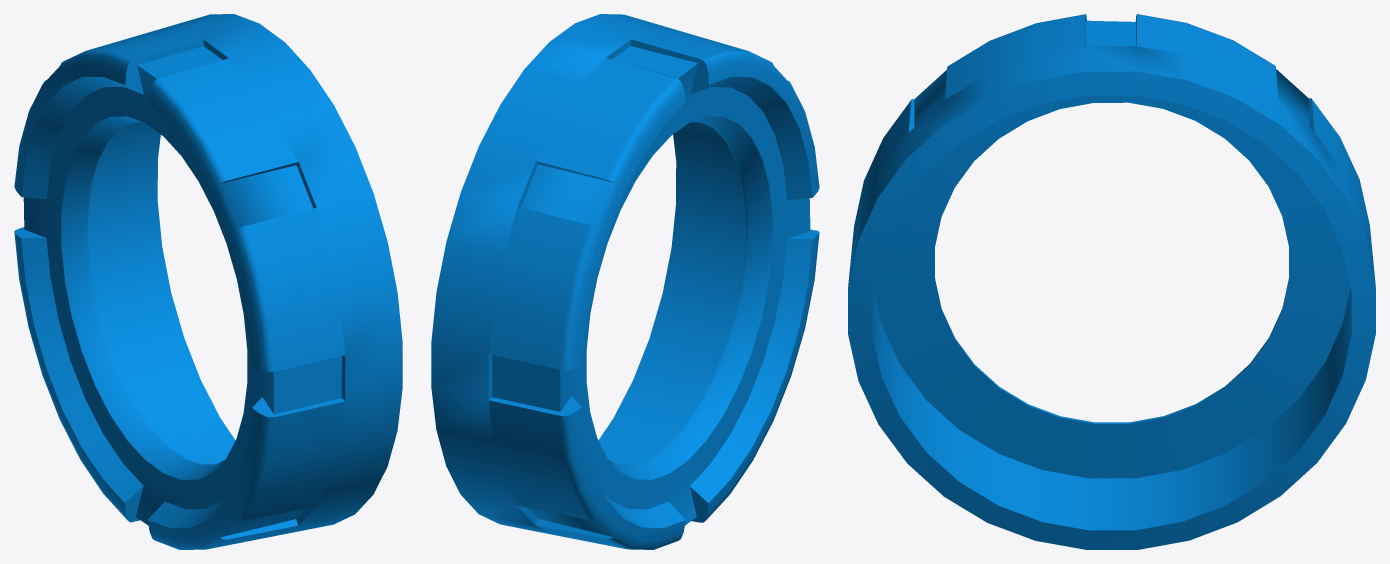
Rendered from Крышка.fbx.
3 views of the same model, side by side, from view 1: azimuth 30°, elevation 25°; view 2: azimuth 150°, elevation 25°; view 3: azimuth 270°, elevation 25° (orthographic).
Visible parts, largest first — view 1: Крышка; view 2: Крышка; view 3: Крышка.
Part boxes in pixels (x1,y1,x2,y2): Крышка: (14,14,402,549); Крышка: (431,14,819,549); Крышка: (848,14,1375,549).
Size of the model in its own units: 66.69 by 216 by 216.
